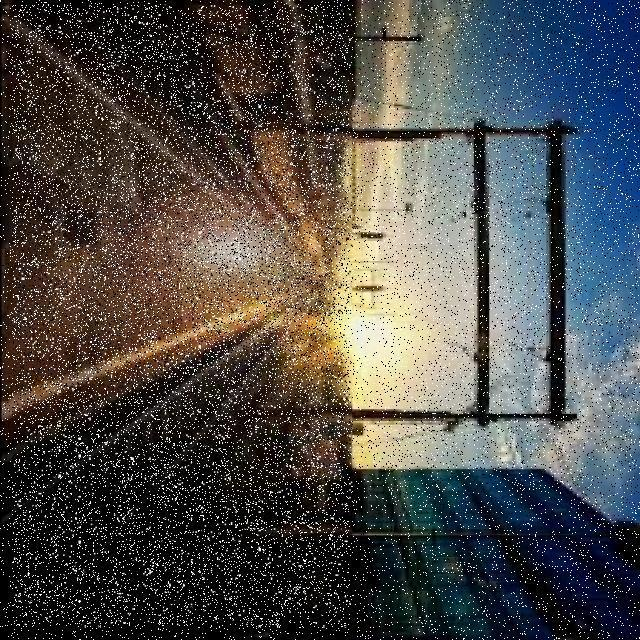rail: (13, 5, 349, 627)
